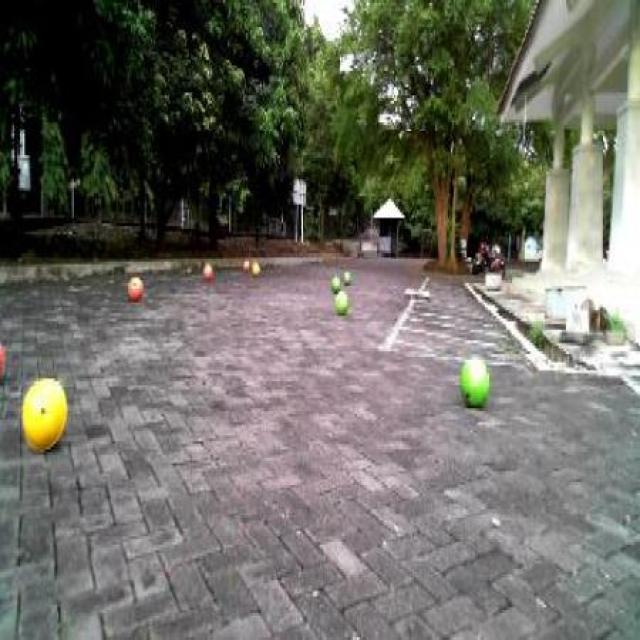buoy: (19, 366, 71, 459), (455, 348, 492, 411), (124, 271, 143, 304), (332, 285, 351, 317), (0, 332, 7, 388)
